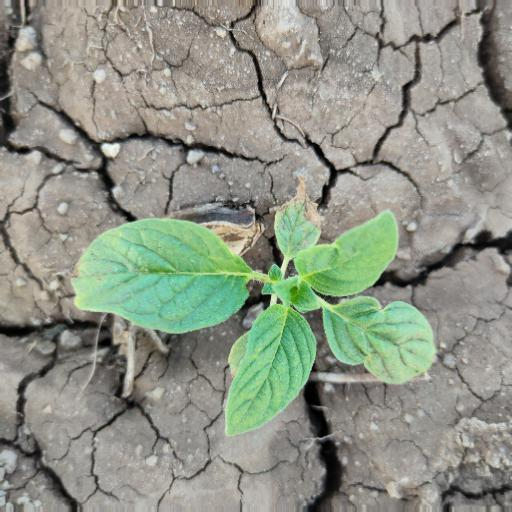crop: (66, 191, 450, 428)
